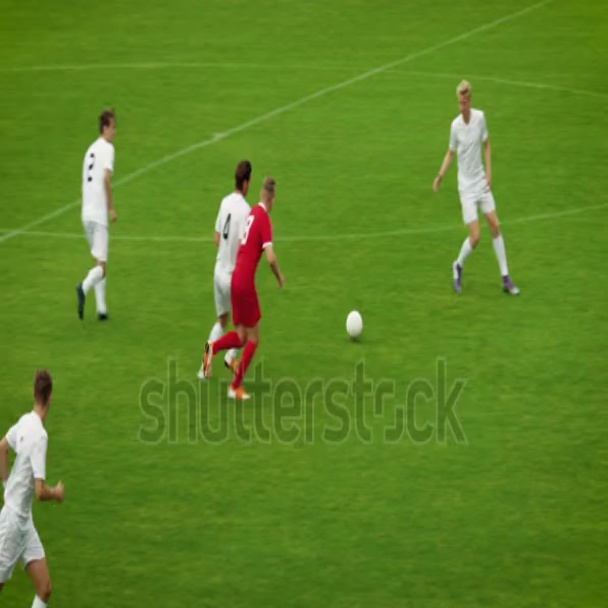ball: (347, 307, 364, 342)
